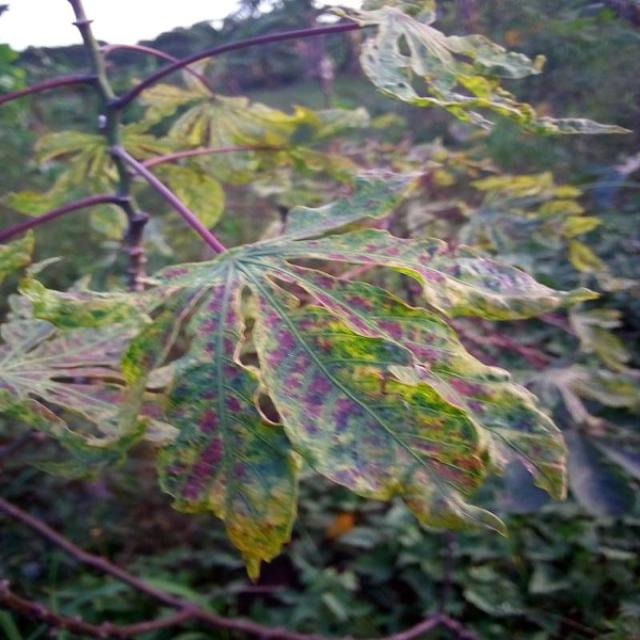cassava leaf: (1, 192, 592, 579)
